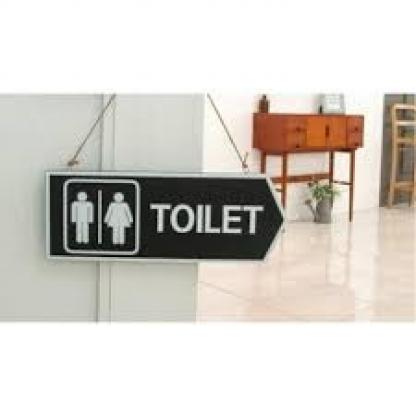toilet: (70, 189, 135, 248)
